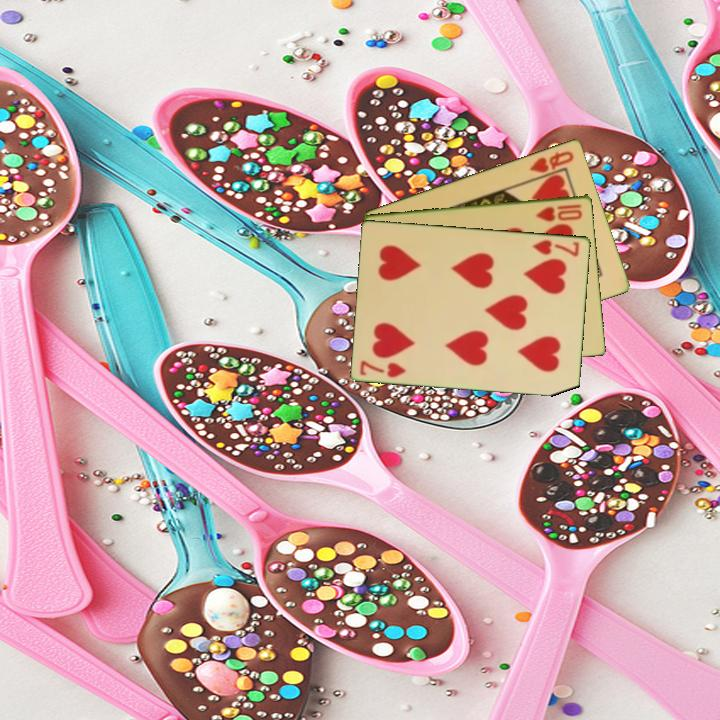10h: (532, 200, 585, 224)
7h: (529, 236, 582, 259), (356, 357, 409, 380)
Qh: (526, 147, 577, 176)
